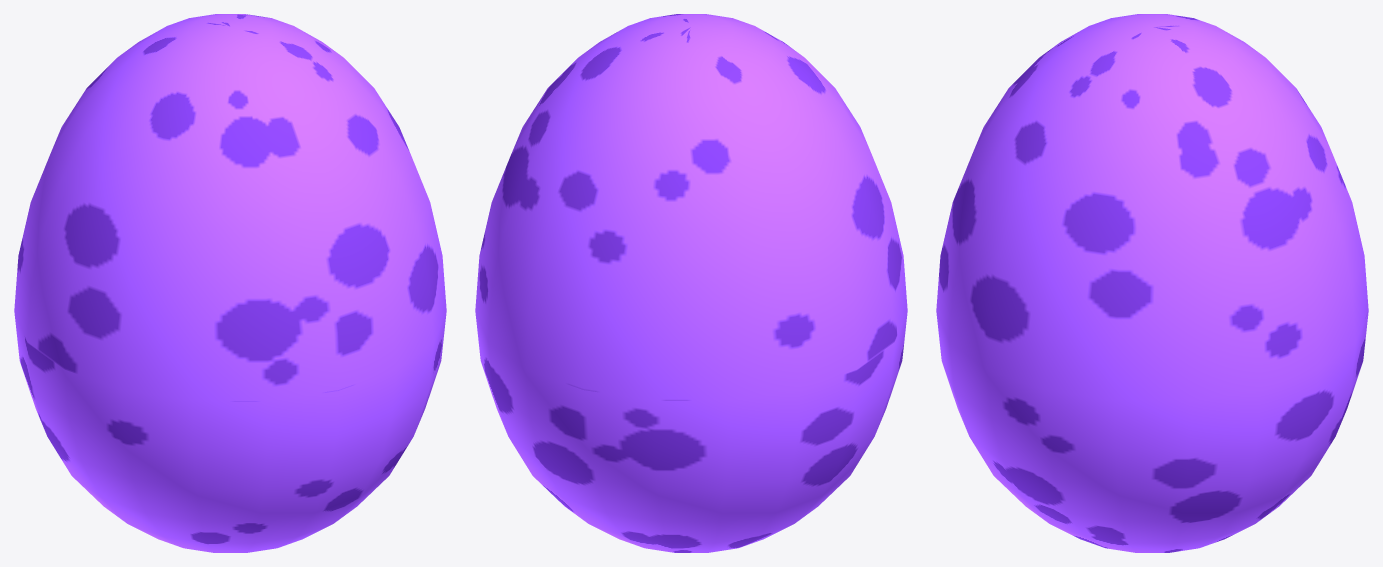
The model's file is egg_epic.glb.
3 renders of one model, left to right at view 1: azimuth 30°, elevation 25°; view 2: azimuth 150°, elevation 25°; view 3: azimuth 270°, elevation 25°, orthographic.
Visible parts, largest first — view 1: top, bottom; view 2: top, bottom; view 3: top, bottom.
Boxes of the visible parts, x1,y1,x2,y2 form: top: [14, 14, 446, 400]; bottom: [14, 311, 446, 552]; top: [475, 14, 907, 400]; bottom: [475, 311, 907, 552]; top: [936, 14, 1368, 400]; bottom: [936, 311, 1368, 552].
Bounding box in the file's own units: 0.3939 × 0.52 × 0.4.
Materials: 1 (1 with a texture image).
